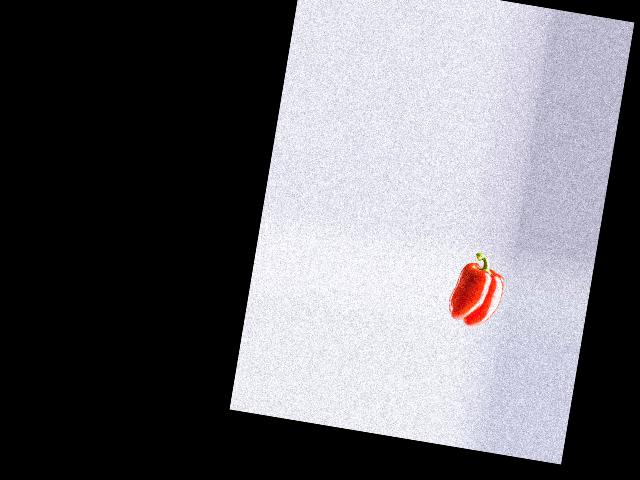bell_pepper: (445, 248, 511, 328)
